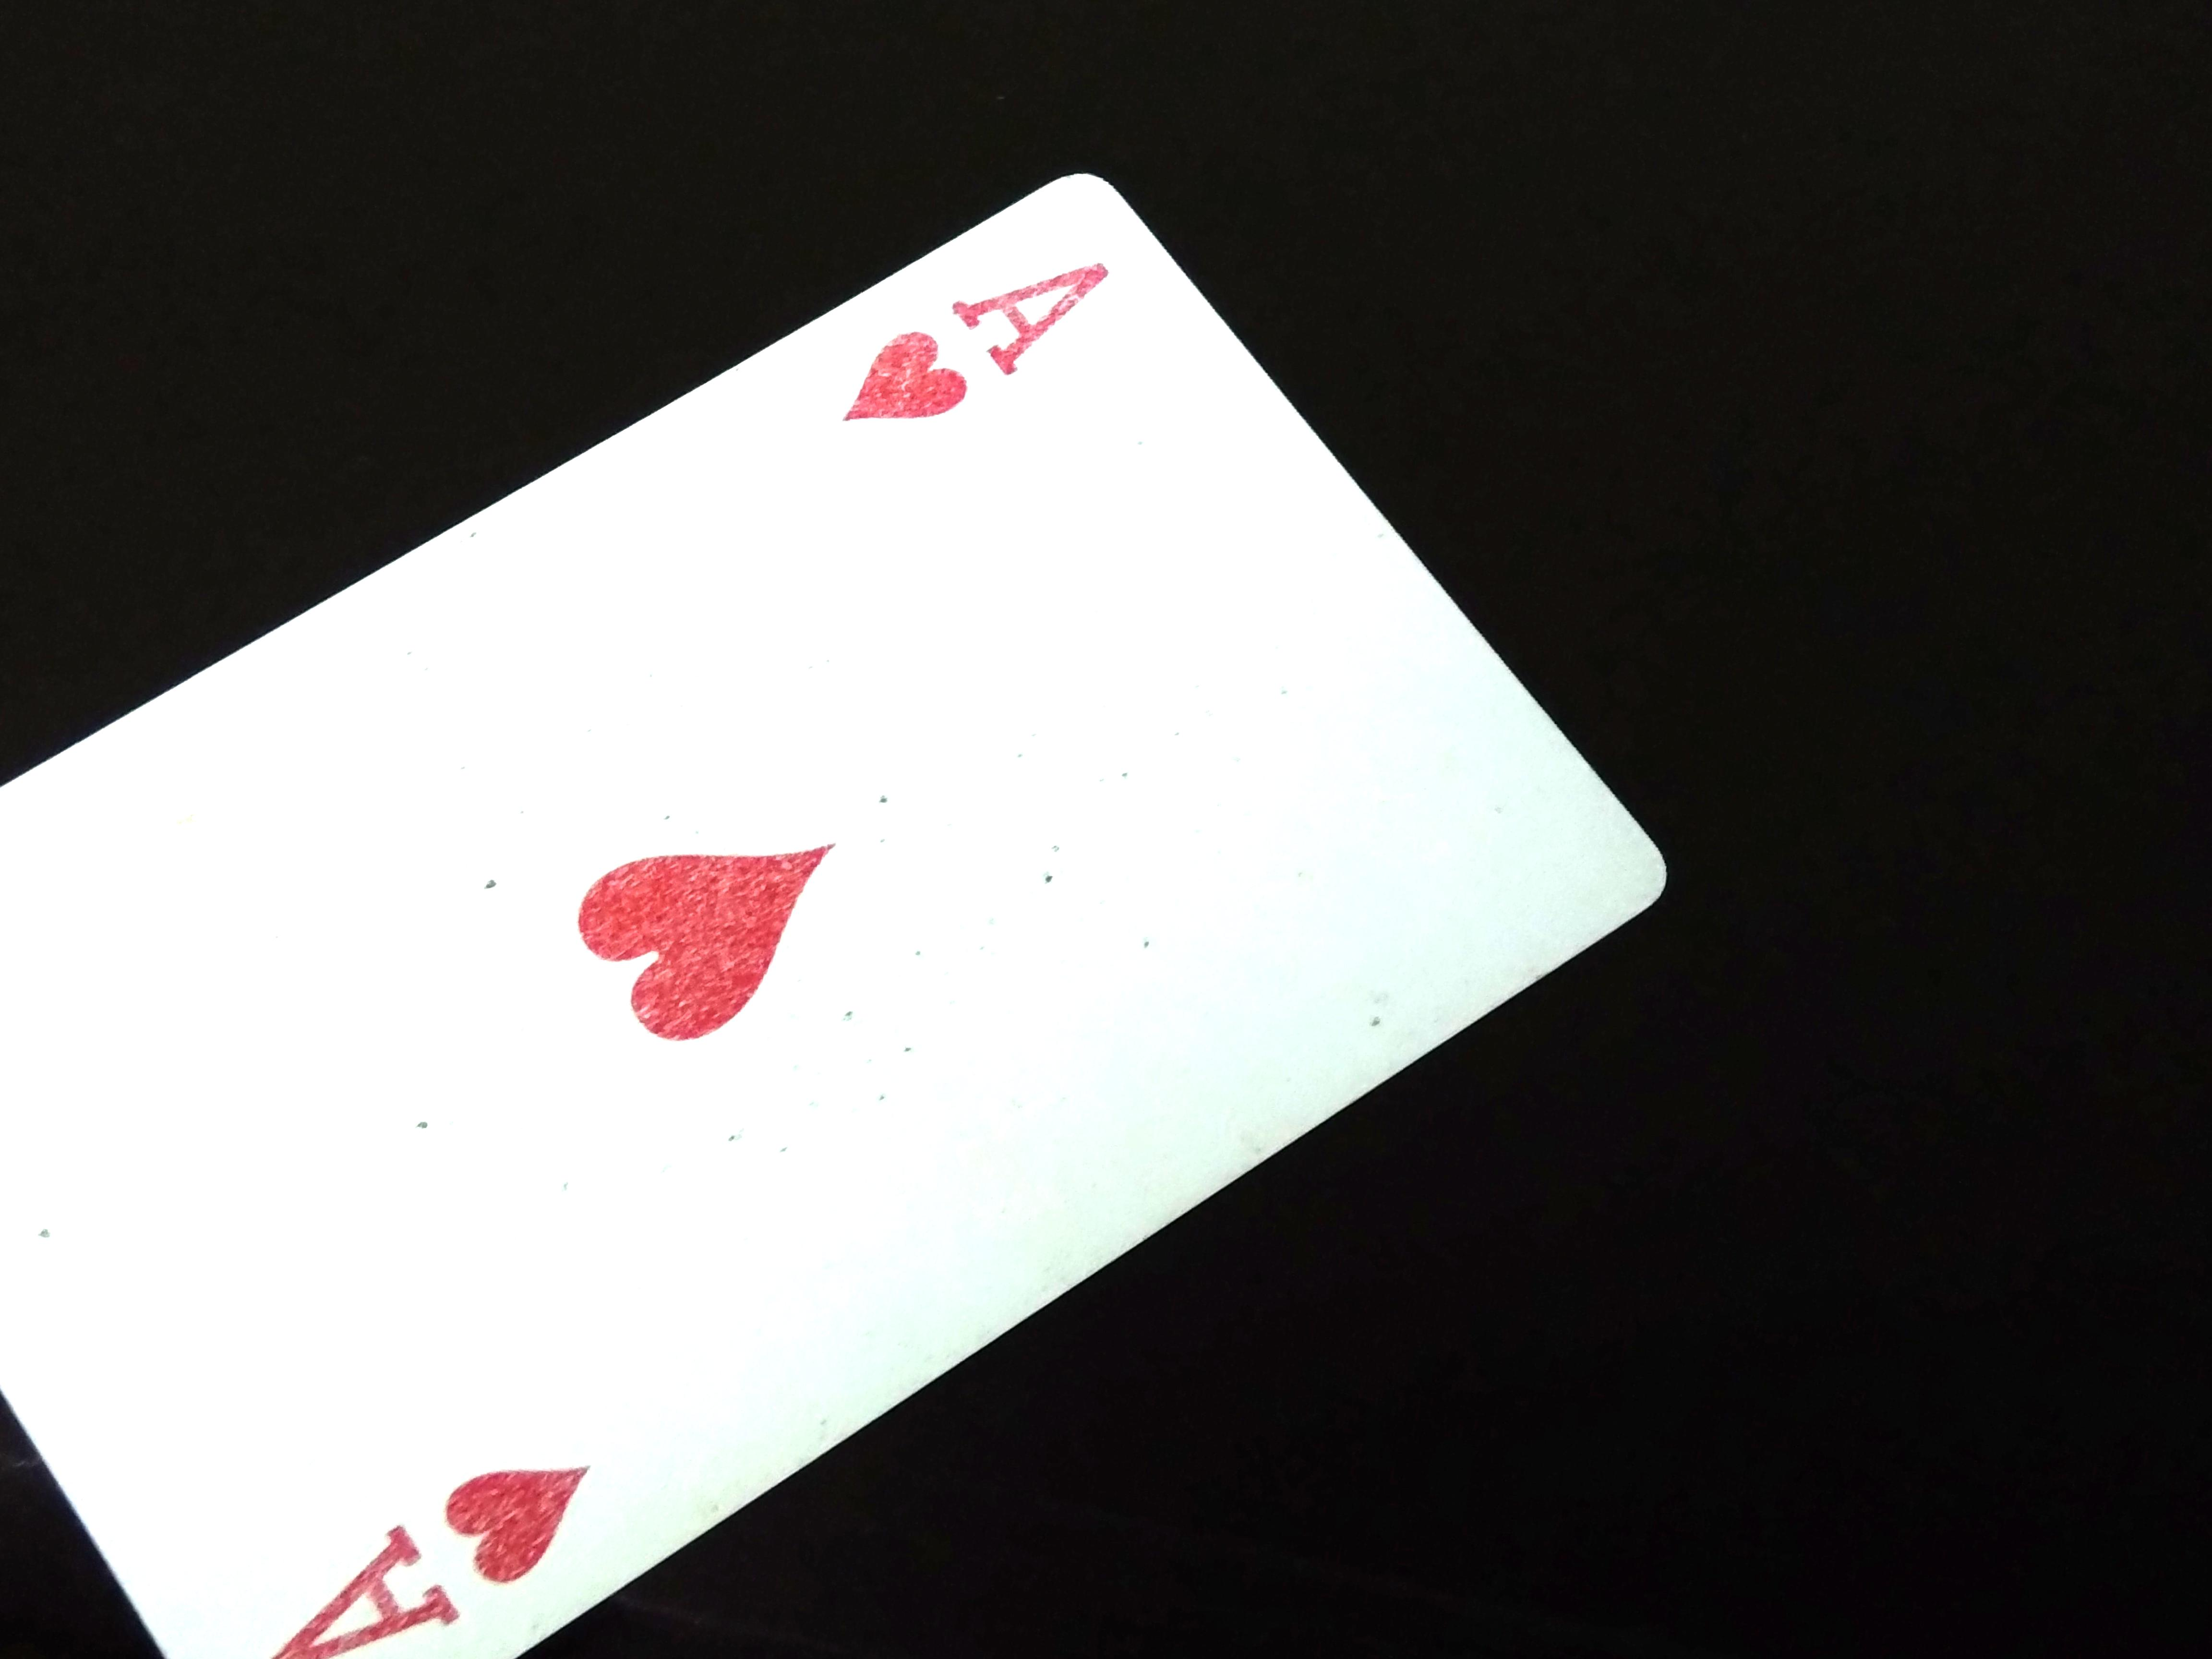AH: (824, 239, 1134, 457)
